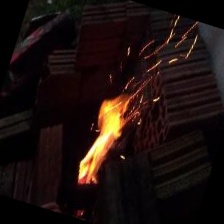fire: (64, 10, 166, 196)
